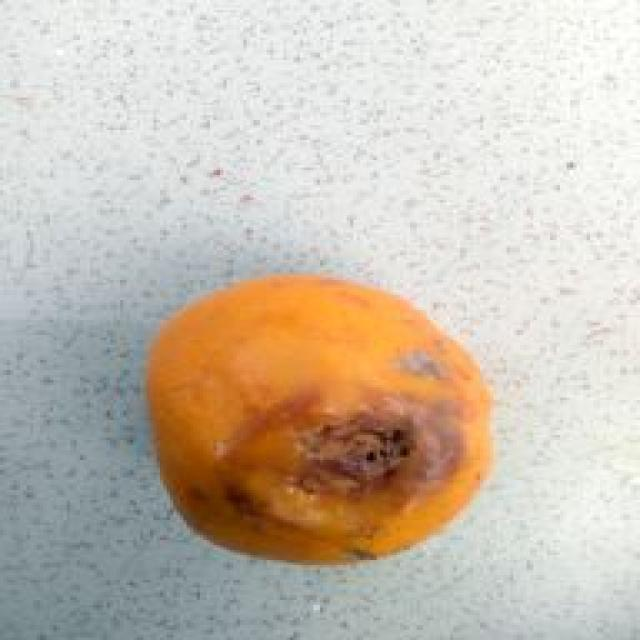Bad_Orange: (147, 275, 492, 562)
